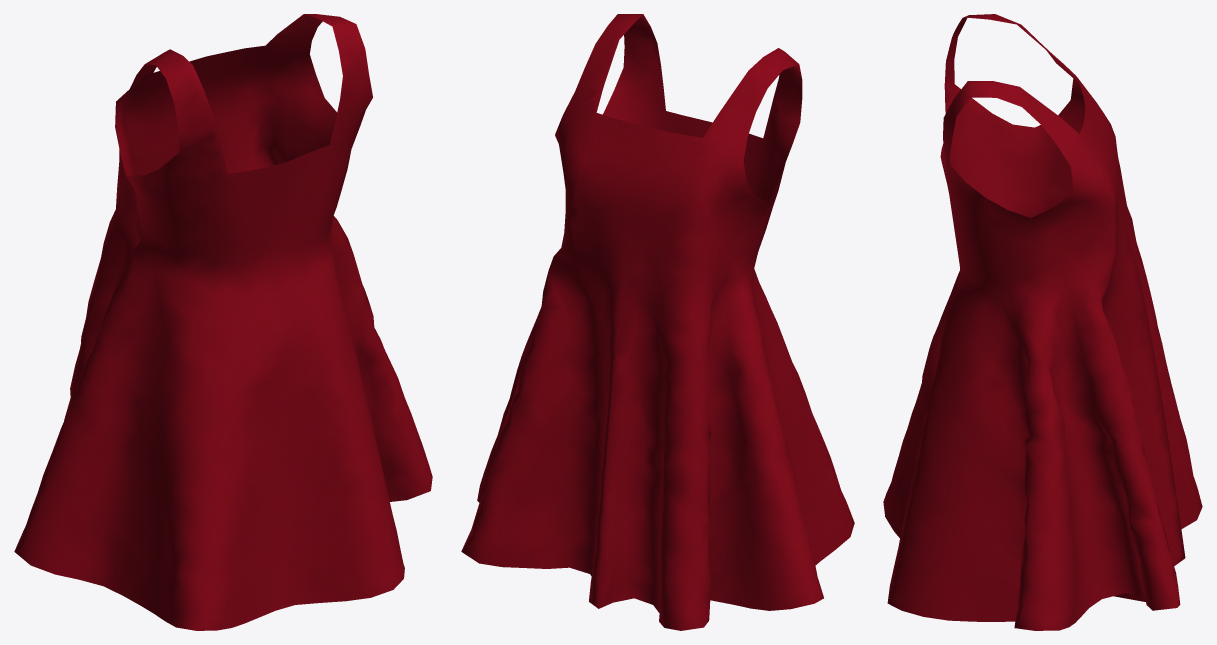
Rendered from dress02.glb.
The picture shows the model from 3 angles, left to right: view 1: azimuth 30°, elevation 25°; view 2: azimuth 150°, elevation 25°; view 3: azimuth 270°, elevation 25°; orthographic projection. The views are drawn at different scales.
Parts seen in each view (by area): view 1: mother; view 2: mother; view 3: mother.
Part boxes in pixels (x1,y1,x2,y2): mother: (14,14,432,630); mother: (461,14,854,630); mother: (883,14,1202,630).
Bounding box in the file's own units: 0.8151 × 1.11 × 0.6116.
Materials: 1 (1 with a texture image).
